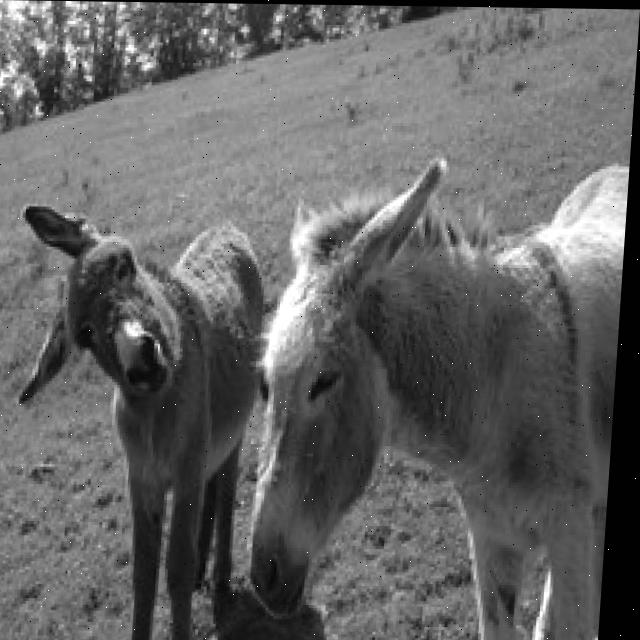Donkey: (238, 150, 627, 640), (0, 201, 272, 640)
